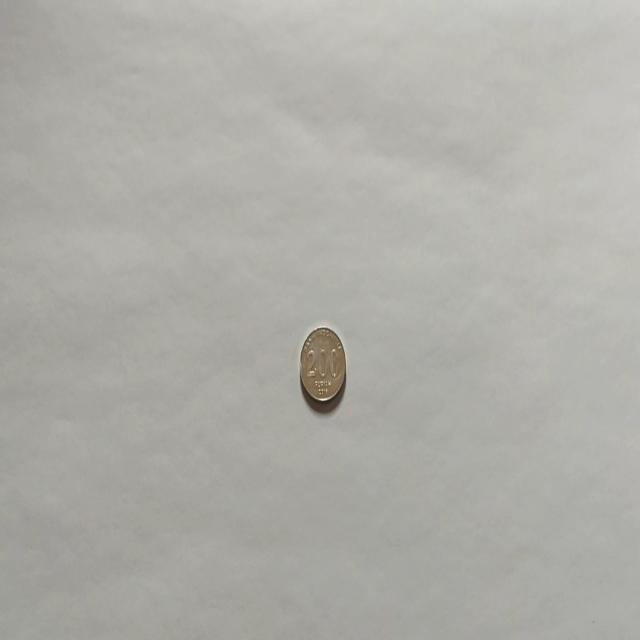dua ratus rupiah: (298, 324, 346, 406)
